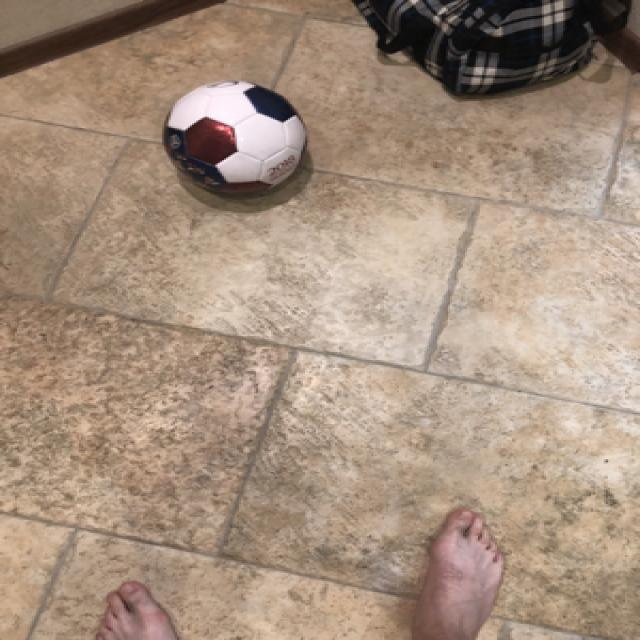soccer_ball: (158, 75, 309, 194)
